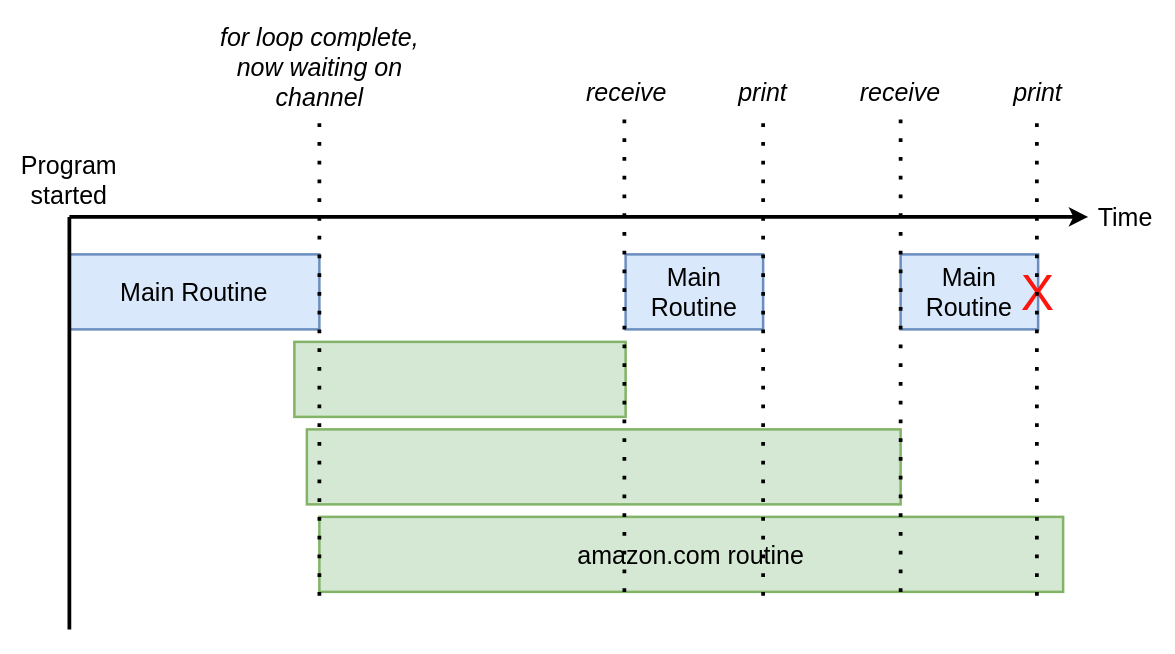
The diagram is 1175 pixels wide and 654 high, and some of its shapes have lost their labels. The shapes that lost their labels are listed below. From the top down, each one's centre as x and y in pixels, then its label:
At [459,379]: "google.com routine".
At [603,466]: "stackoverflow.com routine".
